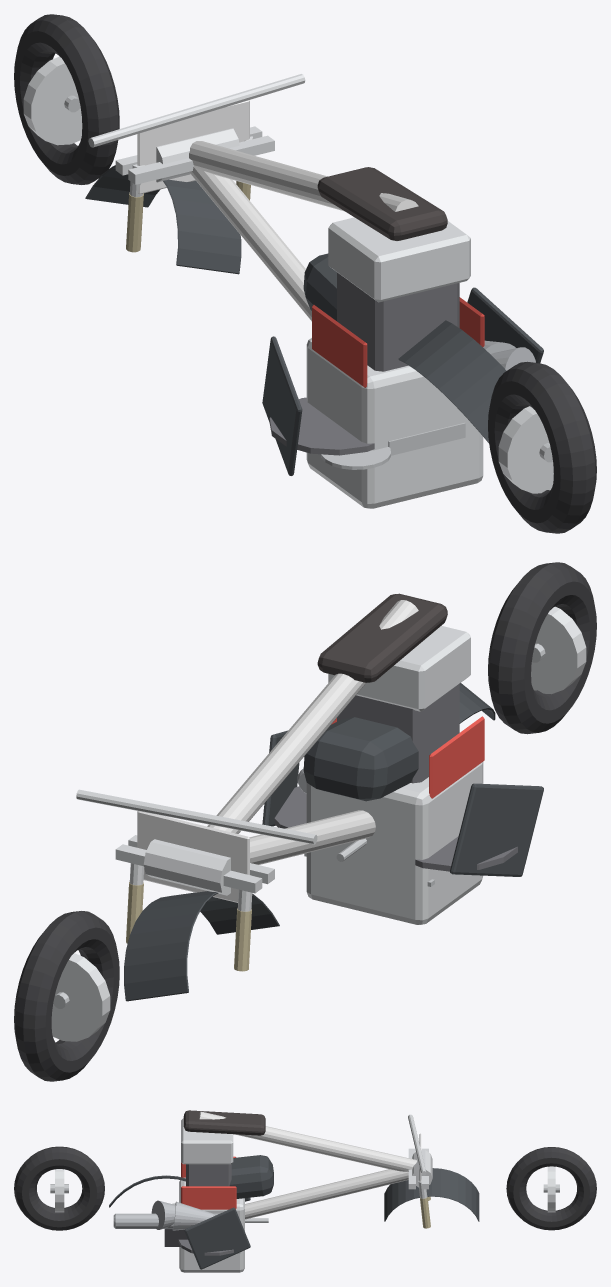
3 renders of one model, top to bottom at view 1: azimuth 30°, elevation 25°; view 2: azimuth 150°, elevation 25°; view 3: azimuth 270°, elevation 25°, orthographic. The views are drawn at different scales.
Visible parts, largest first — view 1: b_engine_case, b_rear_wheel_tire, b_front_wheel_tire, b_engine_head, b_engine_cyl, b_front_fender, b_rear_fender, b_seat, b_frame_down, b_frame_spine, b_front_wheel_rim, b_rear_wheel_rim (+13 smaller); view 2: b_engine_case, b_rear_wheel_tire, b_front_wheel_tire, b_front_fender, b_tank, b_shroud_-1, b_frame_spine, b_seat, b_engine_head, b_engine_cyl, b_front_plate, b_front_wheel_rim (+12 smaller); view 3: b_rear_wheel_tire, b_front_wheel_tire, b_frame_spine, b_frame_down, b_shroud_1, b_front_fender, b_engine_head, b_seat, b_tank, b_engine_case, b_sideplate_1, b_engine_cyl (+11 smaller).
Part boxes in pixels (bbox=[...]): b_engine_case: bbox=[306, 338, 483, 508]; b_rear_wheel_tire: bbox=[488, 361, 596, 533]; b_front_wheel_tire: bbox=[14, 14, 119, 184]; b_engine_head: bbox=[328, 217, 470, 302]; b_engine_cyl: bbox=[337, 272, 459, 371]; b_front_fender: bbox=[85, 165, 241, 274]; b_rear_fender: bbox=[398, 320, 506, 443]; b_seat: bbox=[317, 167, 447, 240]; b_frame_down: bbox=[189, 166, 311, 321]; b_frame_spine: bbox=[189, 141, 418, 211]; b_front_wheel_rim: bbox=[23, 56, 82, 145]; b_rear_wheel_rim: bbox=[498, 406, 553, 493]; b_engine_case: bbox=[306, 762, 483, 924]; b_rear_wheel_tire: bbox=[488, 562, 596, 734]; b_front_wheel_tire: bbox=[14, 911, 119, 1081]; b_front_fender: bbox=[124, 891, 279, 1001]; b_tank: bbox=[303, 717, 418, 801]; b_shroud_-1: bbox=[450, 783, 543, 876]; b_frame_spine: bbox=[207, 600, 418, 833]; b_seat: bbox=[317, 593, 447, 682]; b_engine_head: bbox=[328, 625, 470, 711]; b_engine_cyl: bbox=[337, 684, 459, 783]; b_front_plate: bbox=[137, 811, 249, 902]; b_front_wheel_rim: bbox=[51, 953, 110, 1041]; b_rear_wheel_tire: bbox=[14, 1146, 104, 1230]; b_front_wheel_tire: bbox=[506, 1147, 596, 1230]; b_frame_spine: bbox=[199, 1111, 416, 1171]; b_frame_down: bbox=[245, 1169, 408, 1219]; b_shroud_1: bbox=[184, 1207, 250, 1269]; b_front_fender: bbox=[384, 1168, 479, 1221]; b_engine_head: bbox=[181, 1118, 233, 1164]; b_seat: bbox=[183, 1110, 265, 1135]; b_tank: bbox=[229, 1155, 273, 1198]; b_engine_case: bbox=[179, 1177, 244, 1272]; b_sideplate_1: bbox=[181, 1186, 236, 1209]; b_engine_cyl: bbox=[186, 1164, 231, 1186].
Bounding box in the file's own units: 0.8992 × 0.9896 × 3.55.
